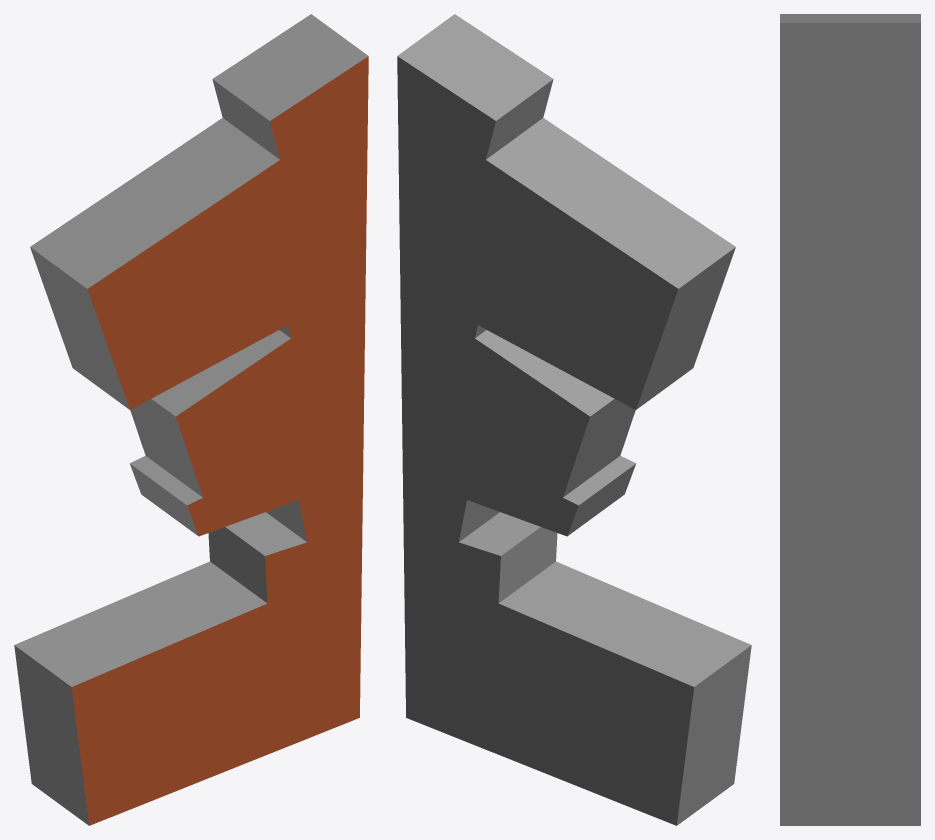
File: construction_4221_assumed_A_Casa_h6m.obj
The picture shows the model from 3 angles, left to right: view 1: azimuth 30°, elevation 25°; view 2: azimuth 150°, elevation 25°; view 3: azimuth 270°, elevation 25°; orthographic projection. The views are drawn at different scales.
Parts seen in each view (by area): view 1: construction_4221_assumed_A_Casa; view 2: construction_4221_assumed_A_Casa; view 3: construction_4221_assumed_A_Casa.
Boxes of the visible parts, <box> form: construction_4221_assumed_A_Casa: <box>14,14,368,825</box>; construction_4221_assumed_A_Casa: <box>397,14,751,825</box>; construction_4221_assumed_A_Casa: <box>780,14,920,825</box>.
Bounding box in the file's own units: 17.9 × 40.41 × 6.
